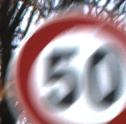Speed Limit -50-: (0, 0, 125, 123)
